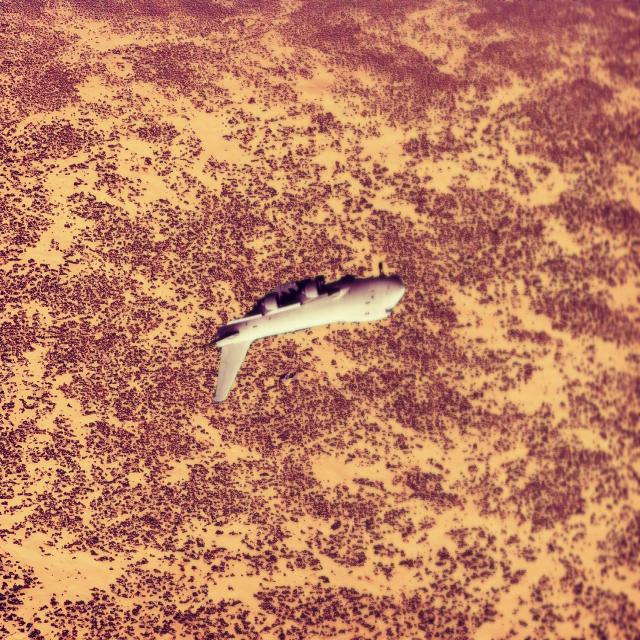airplane: (204, 261, 406, 404)
